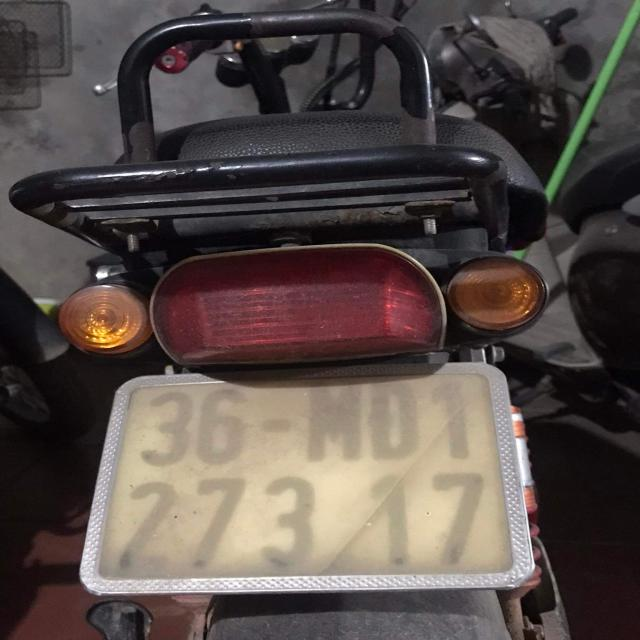1: (363, 471, 416, 570), (431, 381, 477, 460)
2: (117, 478, 179, 569)
3: (258, 472, 320, 566), (138, 388, 194, 468)
6: (192, 385, 255, 464)
7: (426, 466, 487, 566), (186, 474, 247, 568)
D: (367, 378, 422, 461)
K: (210, 31, 318, 120)
M: (302, 380, 365, 465)
